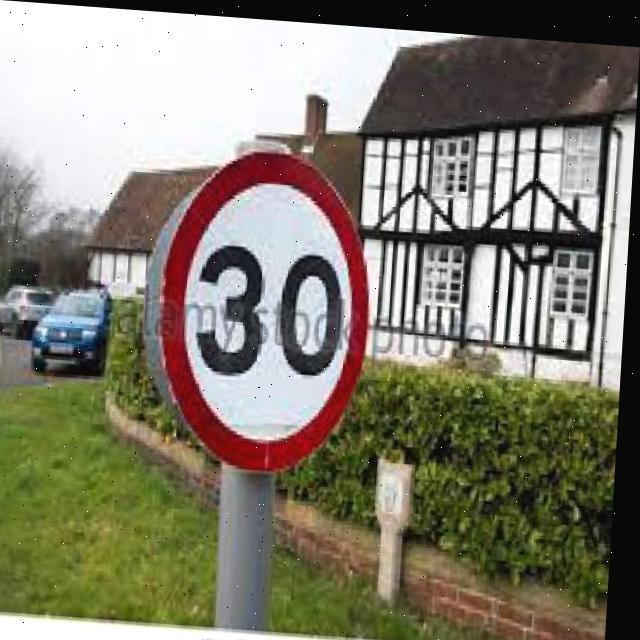Speed limit 30: (137, 136, 384, 477)
